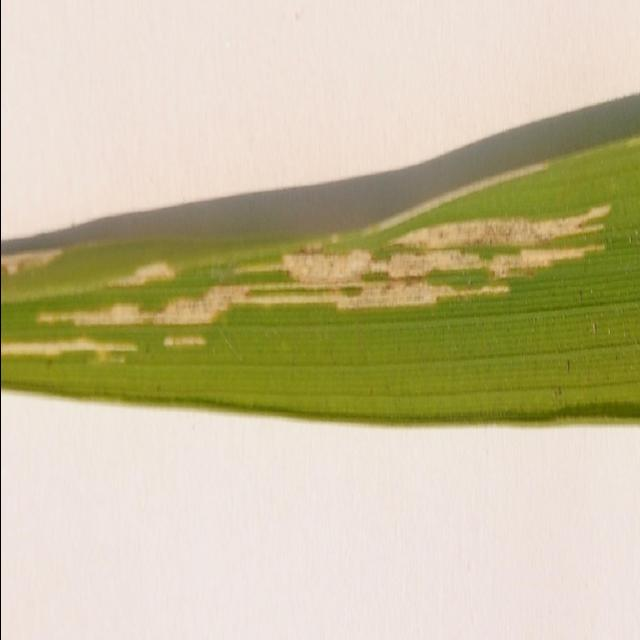Bacterial leaf blight: (282, 195, 616, 362), (32, 283, 284, 326), (0, 334, 138, 369), (0, 248, 84, 289), (102, 256, 190, 292), (159, 334, 209, 349)
